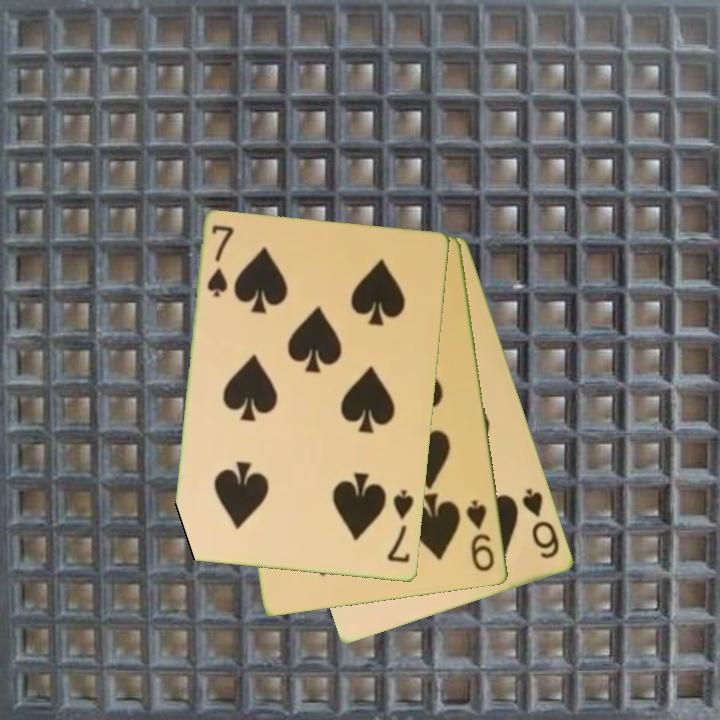6s: (519, 485, 563, 562)
7s: (384, 486, 417, 566), (204, 222, 237, 301)
9s: (463, 496, 498, 575)
